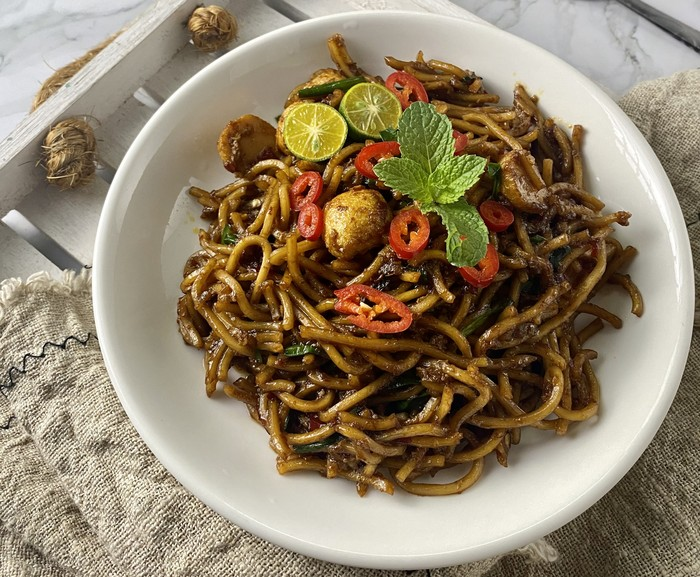Mie: (118, 62, 653, 486)
